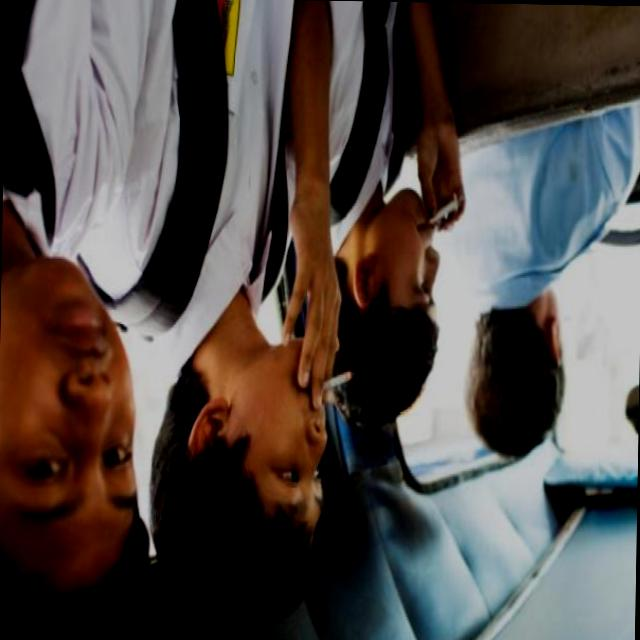smoke: (318, 366, 357, 393)
